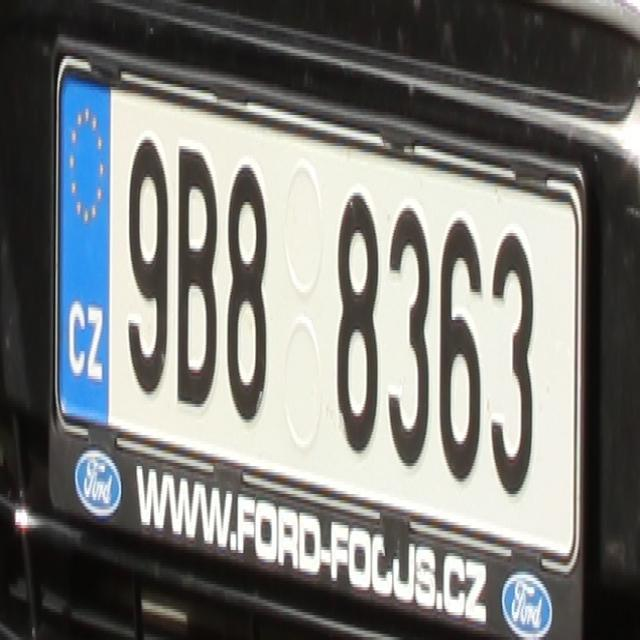3: (492, 224, 536, 501), (386, 202, 426, 469)
6: (436, 208, 482, 479)
8: (332, 187, 378, 450), (224, 158, 270, 410)
9: (128, 136, 168, 398)
B: (172, 136, 213, 398)
